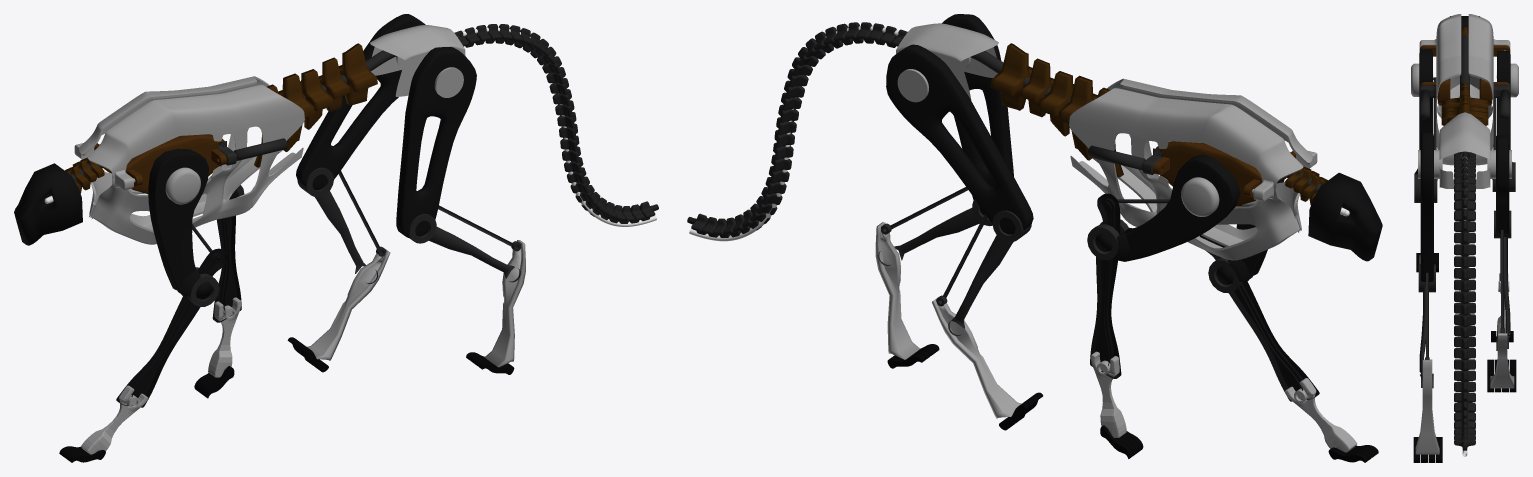
Rendered from uploads_files_2892666_chetah+fbx.fbx.
The picture shows the model from 3 angles, left to right: view 1: azimuth 30°, elevation 25°; view 2: azimuth 150°, elevation 25°; view 3: azimuth 270°, elevation 25°; orthographic projection. The views are drawn at different scales.
Parts seen in each view (by area): view 1: Plane, backupperleg.001, spine1.006, Cube, backupperleg.002, Cube.016, Plane.001, Cylinder.011, Cube.002, Cube.008, Cube.005, Cylinder.013 (+10 smaller); view 2: Plane, backupperleg.002, spine1.006, Cube.010, Cube.016, Plane.001, backupperleg.001, Cylinder.013, Cylinder.011, Cube.013, Cube.005, Cube.008 (+13 smaller); view 3: spine1.006, Plane, Plane.001, backupperleg.001, backupperleg.002, Cube.005, Cube.008, Cube, Cube.010, Cube.009, spine cord, Cube.013 (+26 smaller).
Boxes of the visible parts, <box> form: Plane: <box>79,76,304,244</box>; backupperleg.001: <box>396,47,476,237</box>; spine1.006: <box>454,24,658,223</box>; Cube: <box>148,148,209,296</box>; backupperleg.002: <box>296,14,425,189</box>; Cube.016: <box>14,163,82,245</box>; Plane.001: <box>370,25,465,96</box>; Cylinder.011: <box>116,248,228,407</box>; Cube.002: <box>125,134,226,193</box>; Cube.008: <box>307,247,390,360</box>; Cube.005: <box>484,240,525,367</box>; Cylinder.013: <box>212,190,241,322</box>; Plane: <box>1069,78,1312,260</box>; backupperleg.002: <box>886,44,1033,234</box>; spine1.006: <box>687,22,907,237</box>; Cube.010: <box>1114,154,1240,261</box>; Cube.016: <box>1308,172,1382,261</box>; Plane.001: <box>896,23,998,100</box>; backupperleg.001: <box>942,14,1013,217</box>; Cylinder.013: <box>1090,193,1121,378</box>; Cylinder.011: <box>1199,235,1319,401</box>; Cube.013: <box>1153,141,1262,206</box>; Cube.005: <box>875,222,919,359</box>; Cube.008: <box>932,296,1021,418</box>; spine1.006: <box>1454,152,1475,450</box>; Plane: <box>1436,14,1493,165</box>; Plane.001: <box>1439,112,1490,188</box>; backupperleg.001: <box>1420,132,1433,281</box>; backupperleg.002: <box>1496,135,1509,233</box>; Cube.005: <box>1415,359,1439,454</box>; Cube.008: <box>1490,333,1514,388</box>; Cube: <box>1415,49,1437,180</box>; Cube.010: <box>1492,51,1512,179</box>; Cube.009: <box>1487,359,1516,392</box>; spine cord: <box>1460,35,1469,158</box>; Cube.013: <box>1479,45,1510,105</box>.
Size of the model in its own units: 452 by 230 by 73.15.
